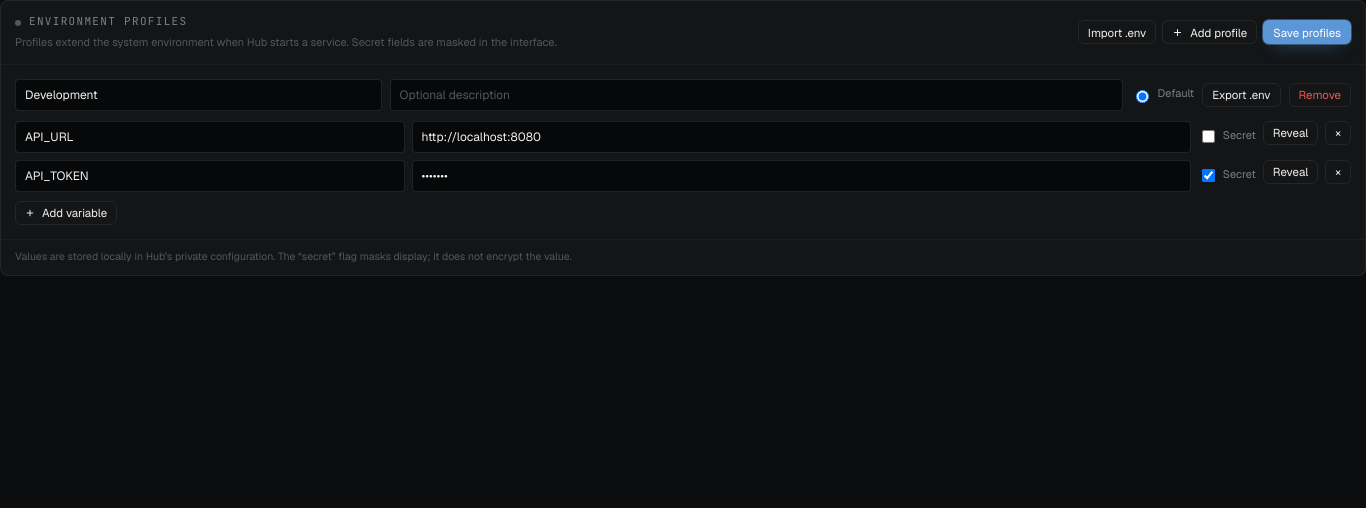
Test: EnvProfilesPanel › imports real values into a new unsaved profile for review
Click the button "Import .env" at (1117, 32), box [1078,20,1156,44]
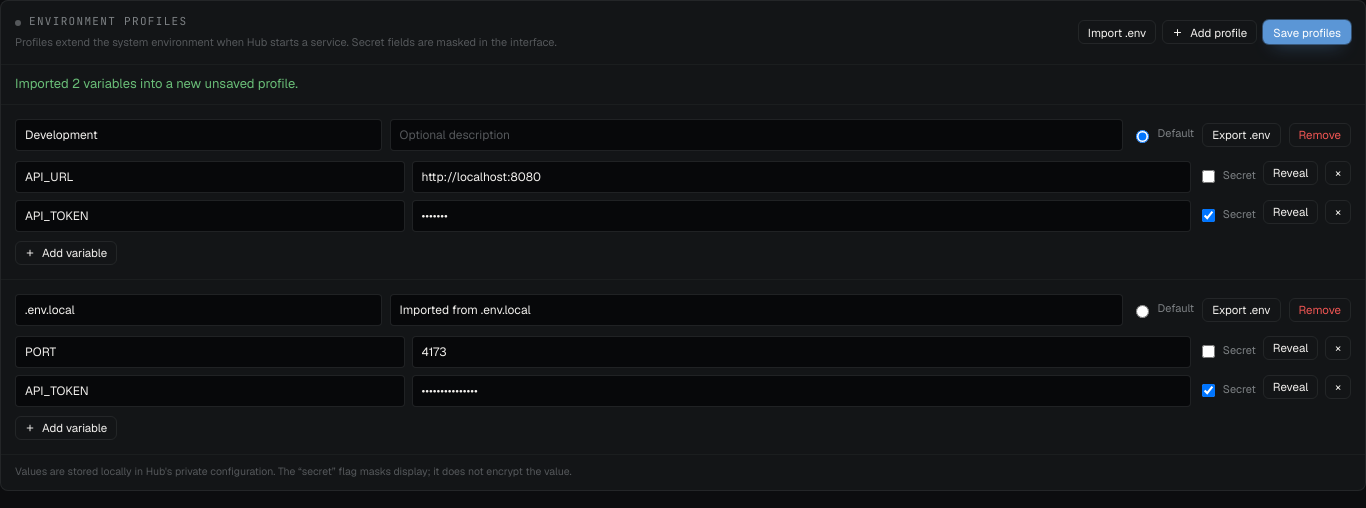
Now the 2nd field showing ".env.local" is shown, box [15,294,382,326]
Now the field showing "4173" is shown, box [412,336,1191,368]
Now the text "Imported 2 variables into a new unsaved profile." is shown, box [1,65,1365,105]
